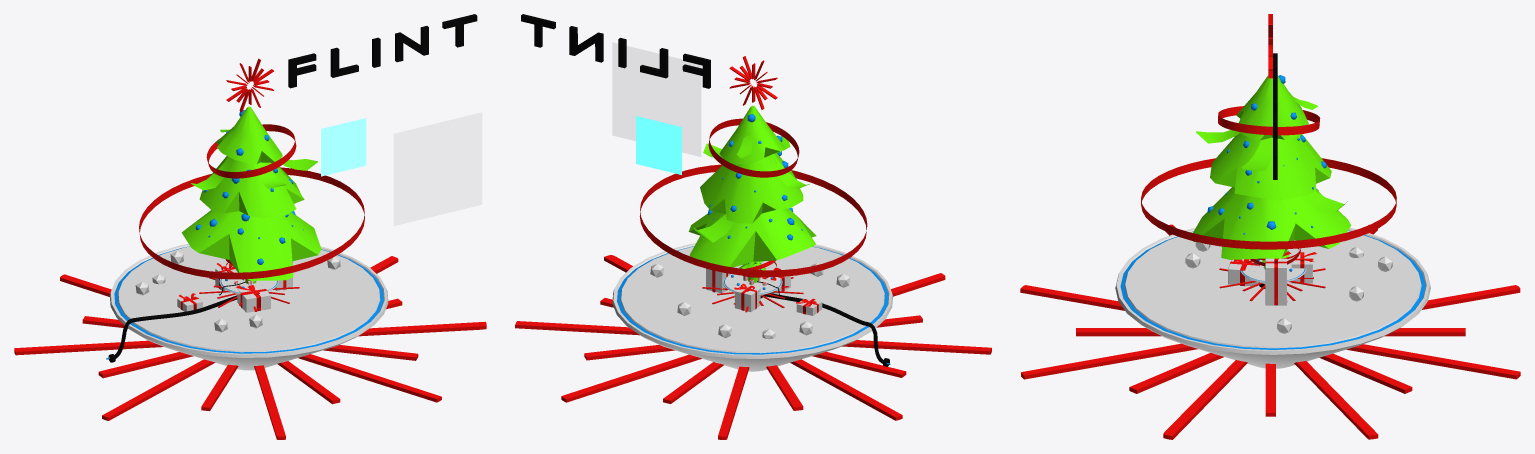
Rendered from XMas_Flint.glb.
The picture shows the model from 3 angles, left to right: view 1: azimuth 30°, elevation 25°; view 2: azimuth 150°, elevation 25°; view 3: azimuth 270°, elevation 25°; orthographic projection. The views are drawn at different scales.
Parts seen in each view (by area): view 1: Circle, wTube, Curve.002, Plane.001, BezierCircle, Curve, Plane, BezierCircle.001, Curve.001, ChristmassTree_v0.1, Cube.020, Cable; view 2: Circle, wTube, Curve.002, Plane.001, BezierCircle, Curve, Plane, ChristmassTree_v0.1, BezierCircle.001, Curve.001, Cube.018, Cable; view 3: Circle, wTube, Curve.002, BezierCircle, BezierCircle.001, Cube.021, ChristmassTree_v0.1, Curve, Cube.020, Cube.018.
Part boxes in pixels (bbox=[...]): Circle: bbox=[109, 244, 388, 370]; wTube: bbox=[181, 106, 321, 283]; Curve.002: bbox=[14, 256, 486, 439]; Plane.001: bbox=[394, 113, 481, 225]; BezierCircle: bbox=[139, 167, 364, 279]; Curve: bbox=[288, 14, 477, 88]; Plane: bbox=[321, 118, 366, 176]; BezierCircle.001: bbox=[206, 124, 296, 178]; Curve.001: bbox=[226, 58, 273, 112]; ChristmassTree_v0.1: bbox=[199, 262, 299, 311]; Cube.020: bbox=[236, 285, 270, 312]; Cable: bbox=[114, 295, 237, 358]; Circle: bbox=[612, 243, 892, 371]; wTube: bbox=[688, 105, 816, 282]; Curve.002: bbox=[515, 255, 991, 439]; Plane.001: bbox=[613, 43, 700, 156]; BezierCircle: bbox=[639, 164, 867, 276]; Curve: bbox=[521, 14, 710, 88]; Plane: bbox=[636, 116, 681, 174]; ChristmassTree_v0.1: bbox=[702, 261, 803, 312]; BezierCircle.001: bbox=[708, 118, 799, 177]; Curve.001: bbox=[729, 56, 777, 109]; Cube.018: bbox=[734, 283, 760, 311]; Cable: bbox=[763, 293, 883, 363]; Circle: bbox=[1115, 227, 1430, 368]; wTube: bbox=[1193, 75, 1351, 269]; Curve.002: bbox=[1020, 224, 1520, 439]; BezierCircle: bbox=[1141, 158, 1396, 249]; BezierCircle.001: bbox=[1218, 106, 1320, 135]; Cube.021: bbox=[1265, 251, 1290, 305]; ChristmassTree_v0.1: bbox=[1219, 248, 1325, 301]; Curve: bbox=[1273, 53, 1277, 179]; Cube.020: bbox=[1228, 259, 1261, 286]; Cube.018: bbox=[1291, 252, 1316, 283].
Bounding box in the file's own units: 6.09 × 4.15 × 5.57.
